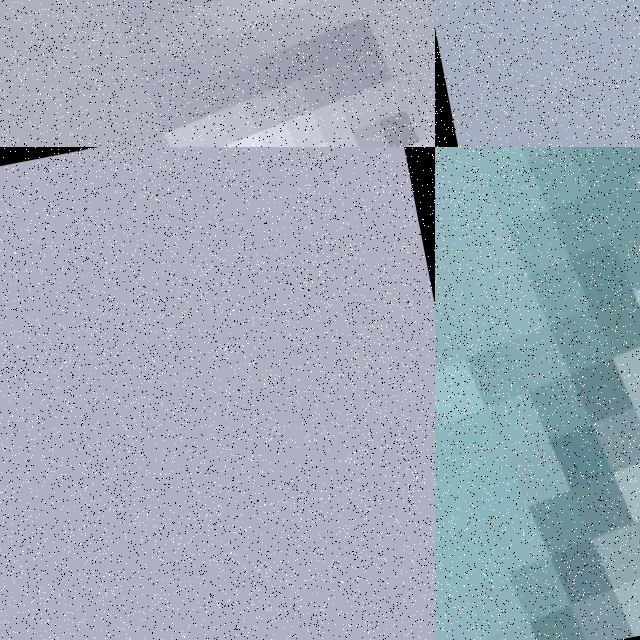0: (0, 0, 435, 147)
drone: (435, 147, 640, 640)
